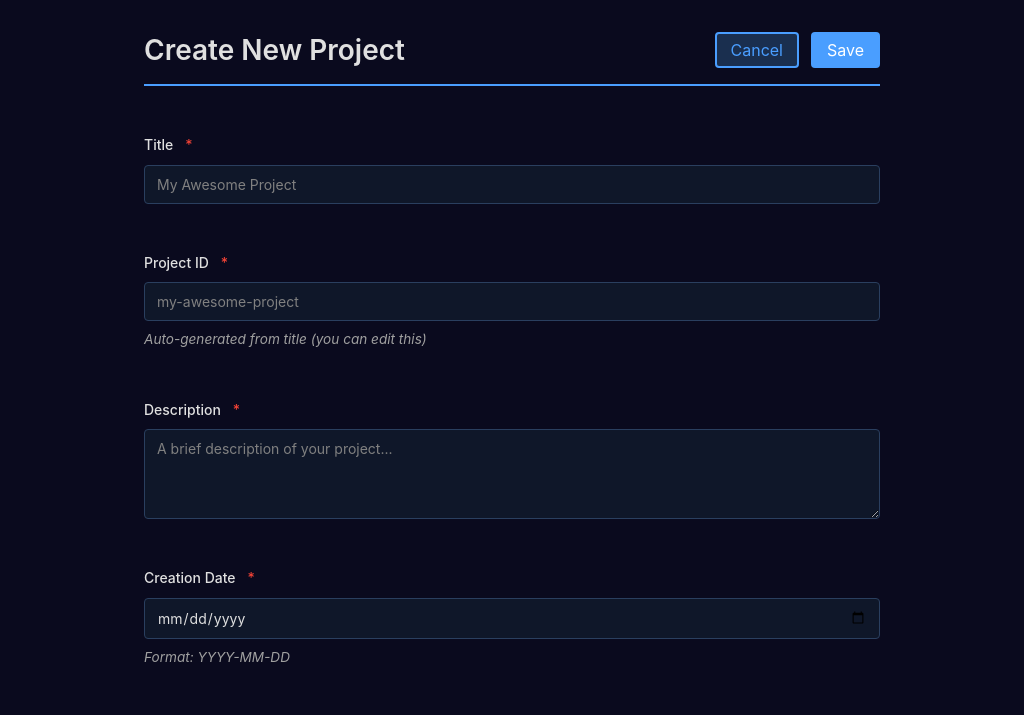
Scenario: ProjectForm › Validation › should check for duplicate IDs in create mode
In the field labelled "Project ID": (512, 302) [144,282,880,321], type "existing-project-1"
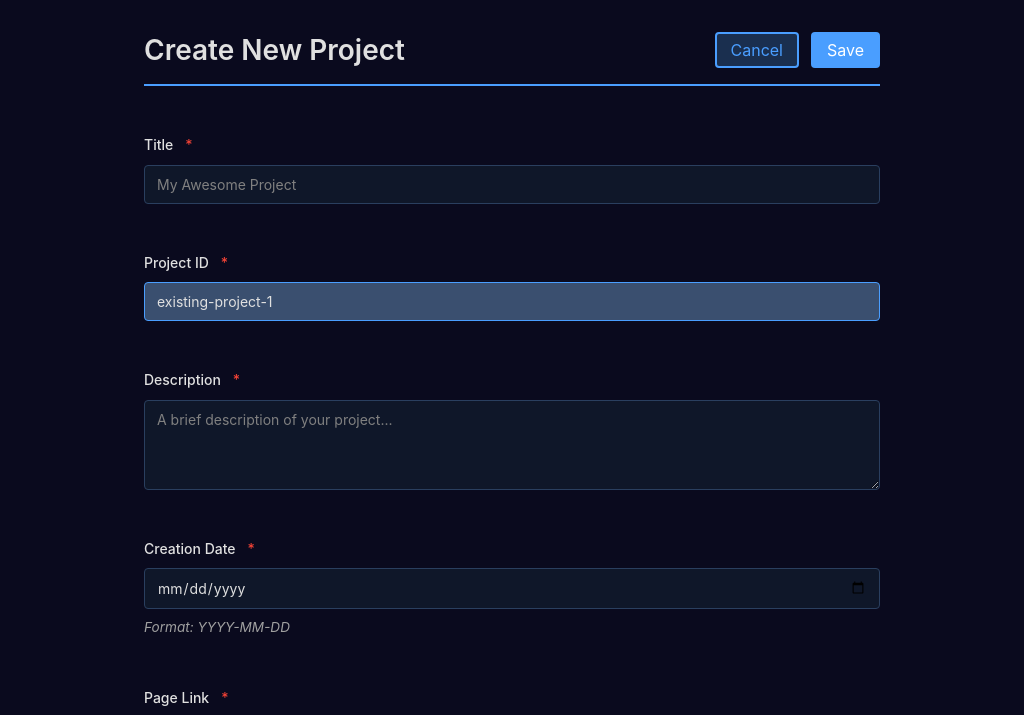
Press Tab
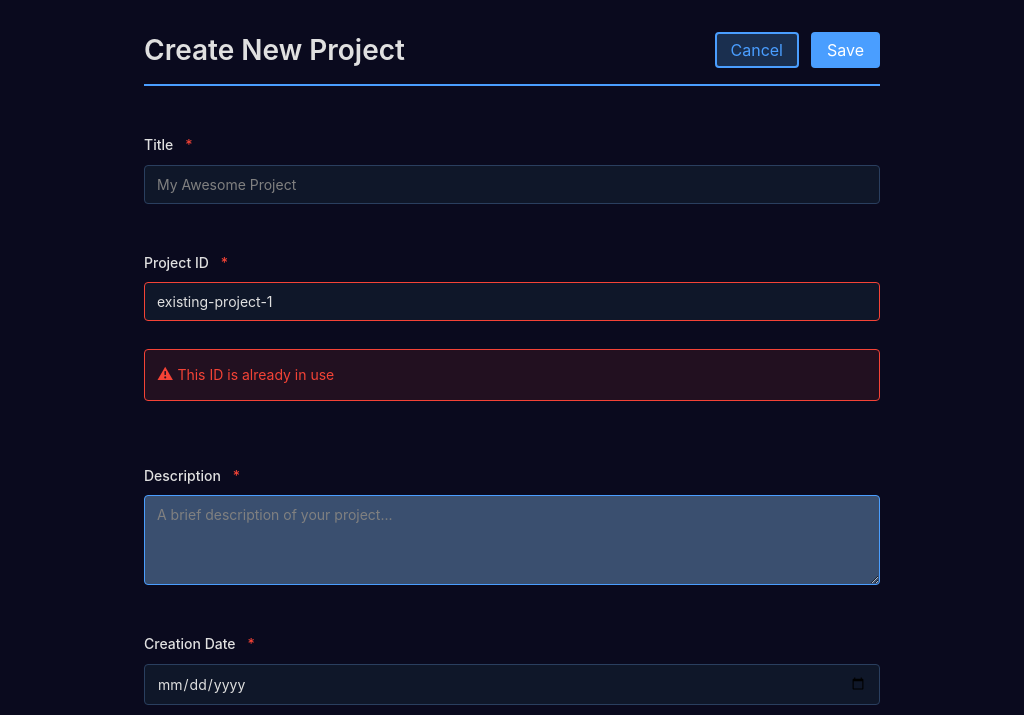
Check: the text "This ID is already in use" is shown, box [144,349,880,401]
